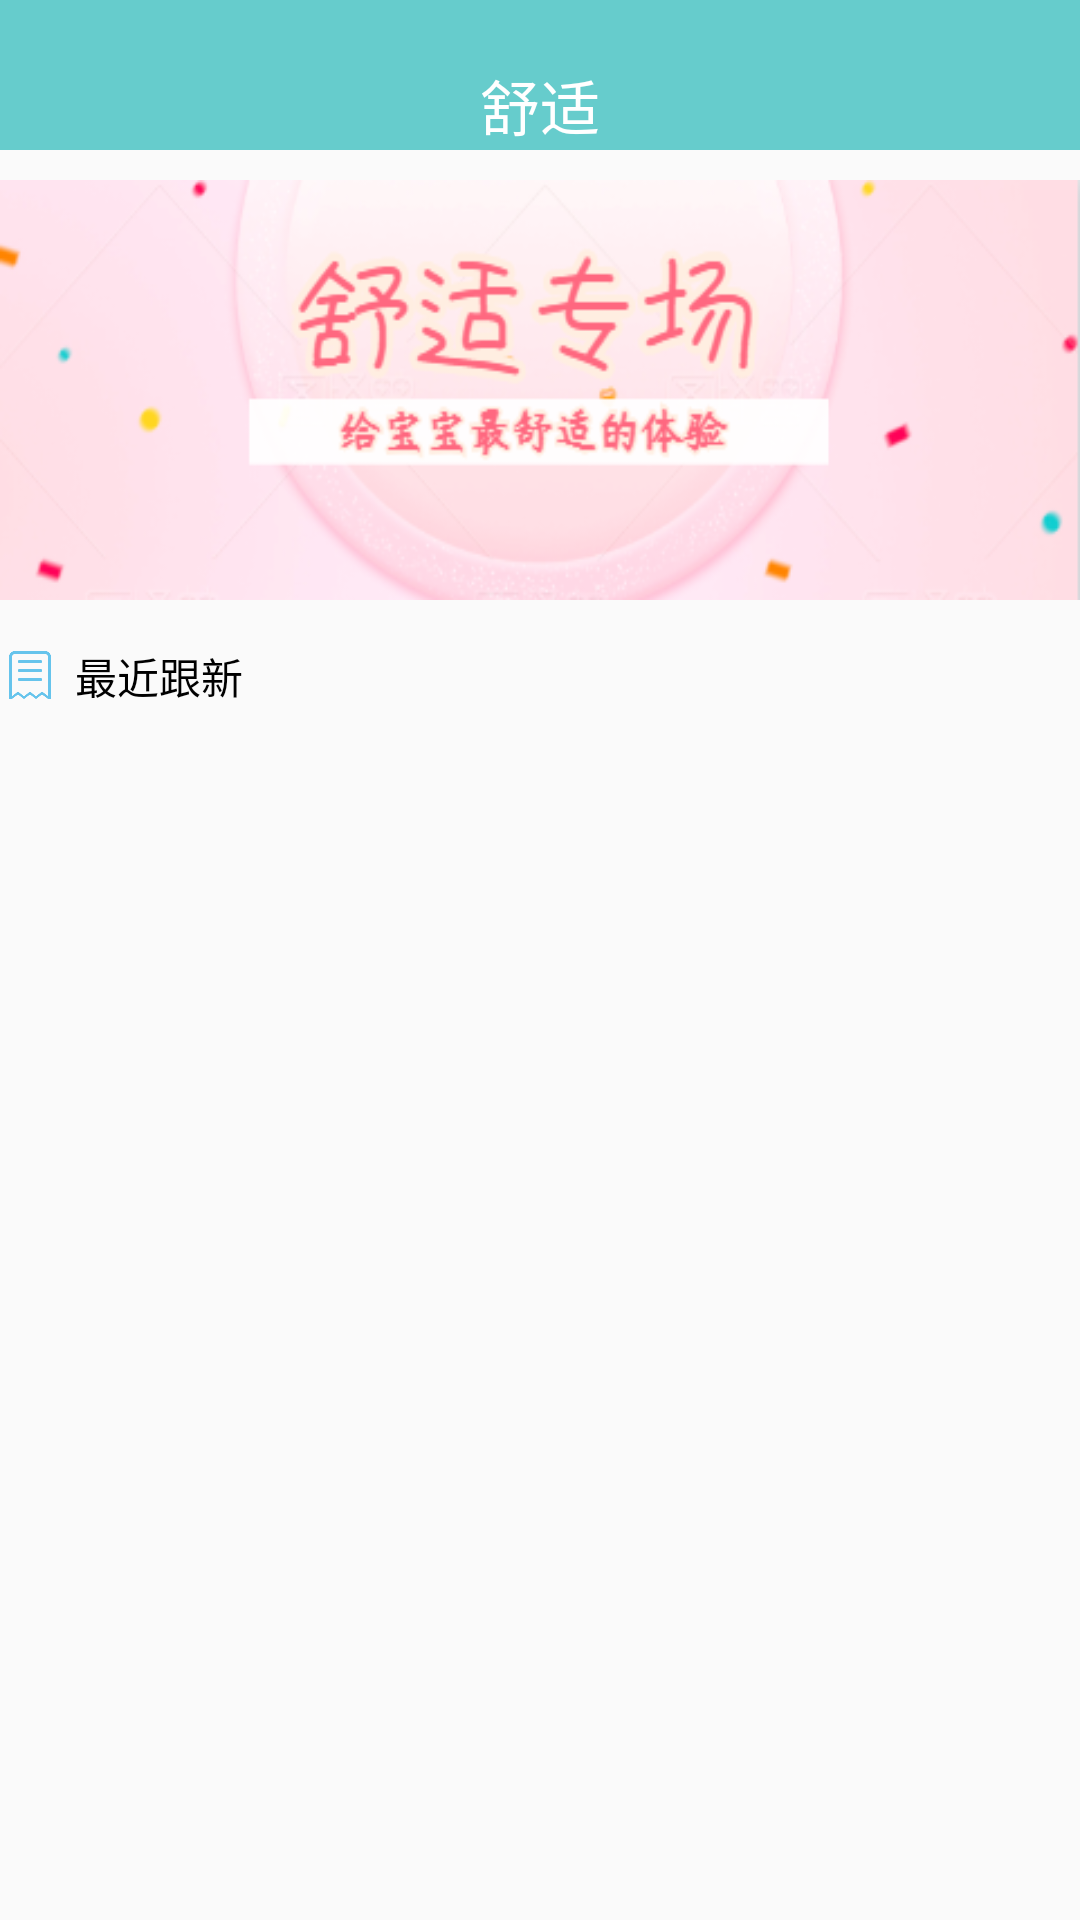

Locate icon controls on the screen. Image size 1080px x 1920px, boxes as (x1, y1, x2, y2).
note: (9, 651, 51, 699)
